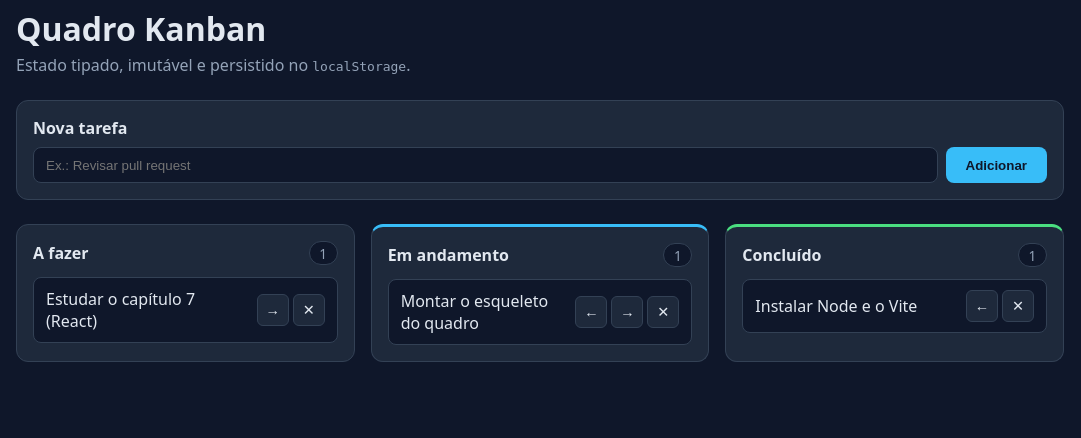
Scenario: Quadro Kanban — criar tarefa › adiciona tarefa na coluna 'A fazer' e atualiza a contagem
In the field labelled "Nova tarefa": (485, 165) top-left (33, 147), bottom-right (938, 183), type "Revisar pull request"
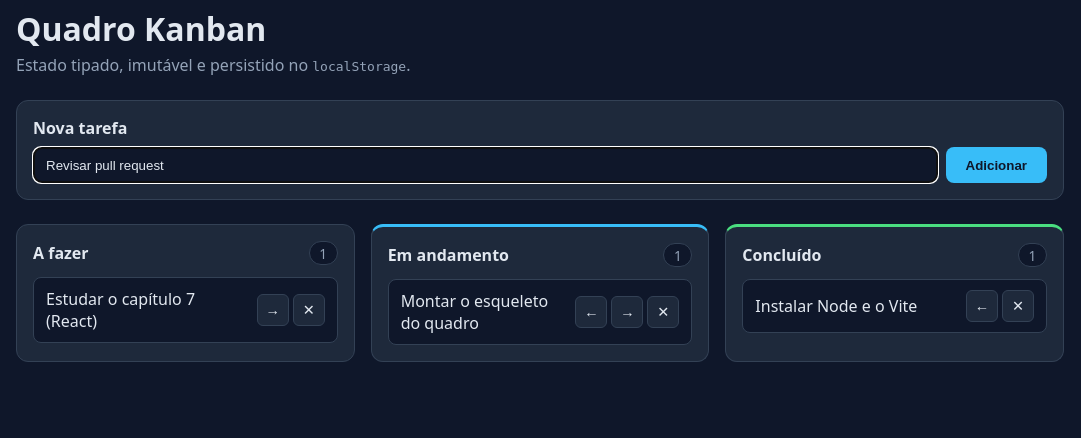
Click the button "Adicionar": (996, 165) top-left (946, 147), bottom-right (1047, 183)
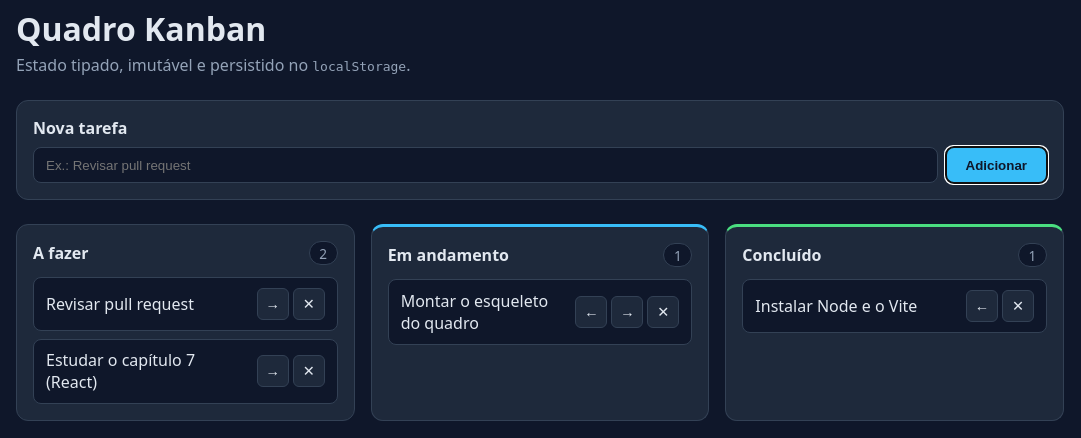
Expected: the text "Revisar pull request" is shown, top-left (46, 293), bottom-right (194, 315)
Expected: the text "2" is shown, top-left (309, 241), bottom-right (338, 265)
